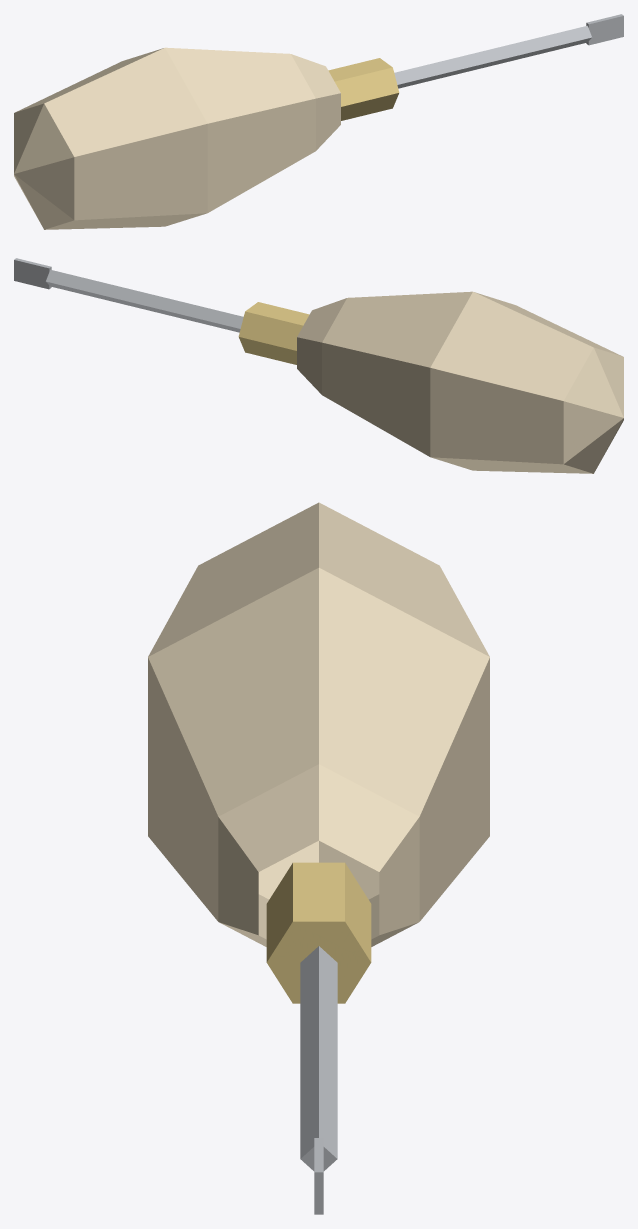
The model's file is prop-button-awl-btm1.fbx.
The picture shows the model from 3 angles, top to bottom: view 1: azimuth 30°, elevation 25°; view 2: azimuth 150°, elevation 25°; view 3: azimuth 270°, elevation 25°; orthographic projection. The views are drawn at different scales.
Parts seen in each view (by area): view 1: prop-button-awl-btm1; view 2: prop-button-awl-btm1; view 3: prop-button-awl-btm1.
Boxes of the visible parts, x1,y1,x2,y2 form: prop-button-awl-btm1: (14, 14, 623, 229); prop-button-awl-btm1: (14, 258, 623, 473); prop-button-awl-btm1: (148, 502, 489, 1214).
Size of the model in its own units: 12.1 by 3.4 by 2.94.
